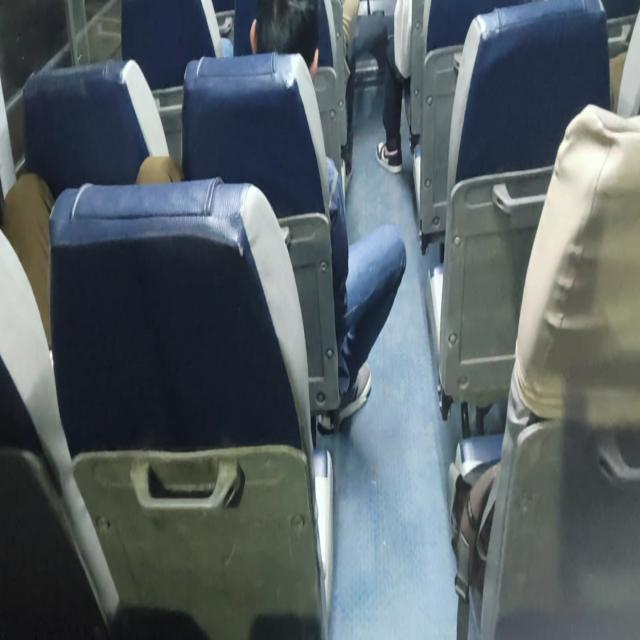person: (247, 0, 407, 432), (374, 0, 420, 174)
